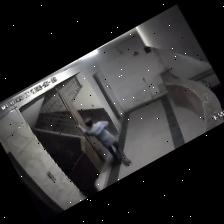person: (78, 118, 130, 165)
